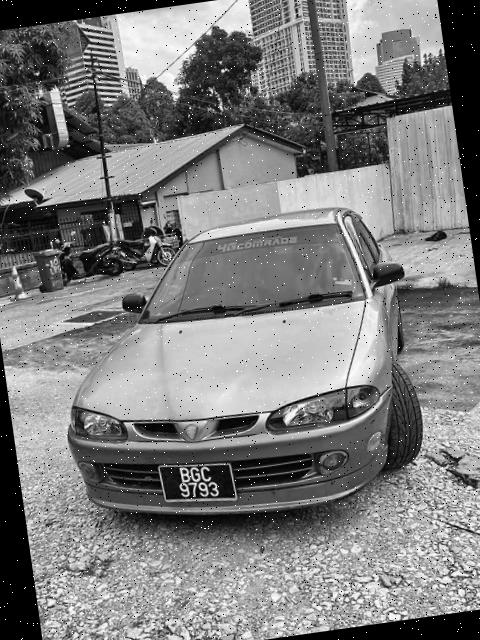License_Plate: (163, 457, 236, 509)
car: (43, 193, 443, 551)
